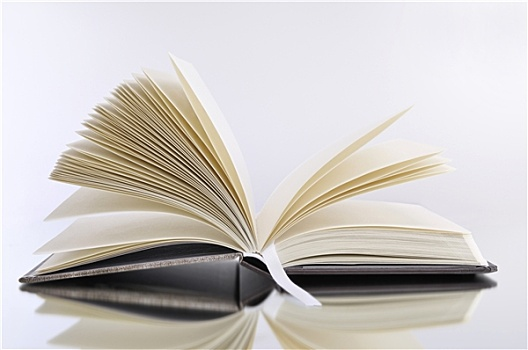book: (19, 55, 499, 303)
